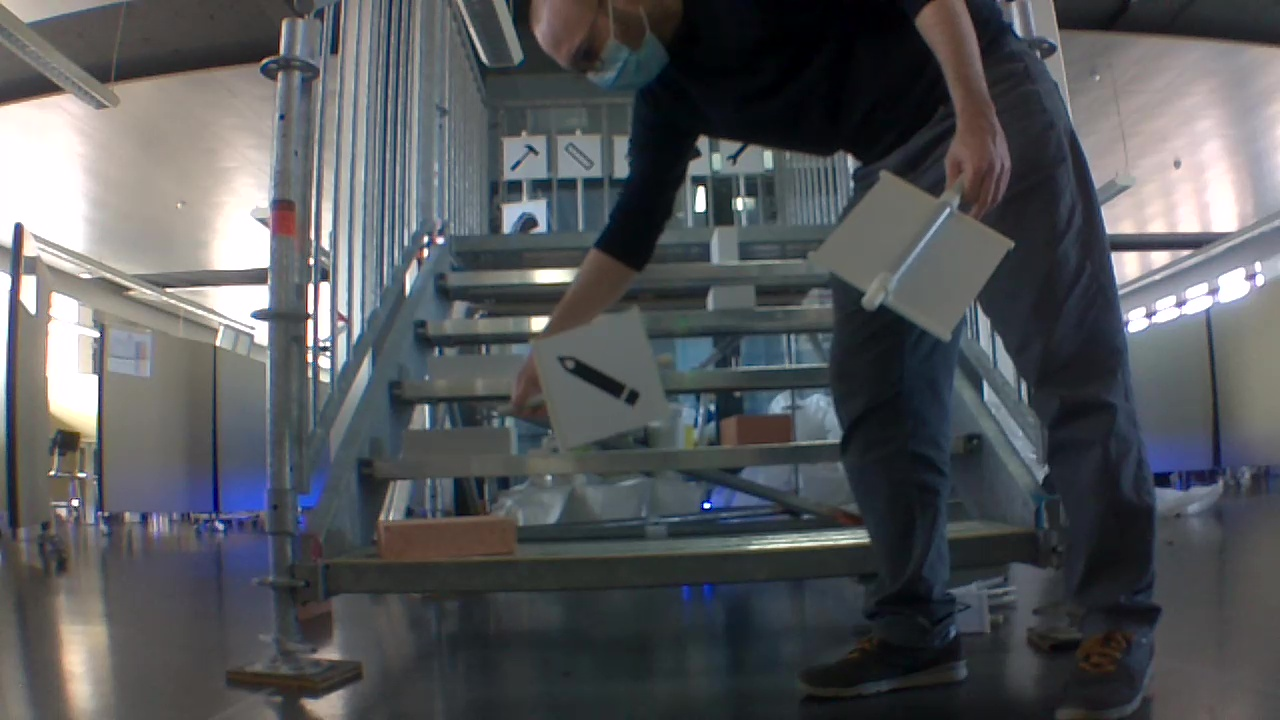brick: (376, 513, 519, 560), (395, 425, 524, 464), (724, 414, 792, 446), (706, 282, 757, 309), (709, 226, 742, 265)
edge: (329, 543, 873, 599)
hammer: (508, 142, 540, 174)
pencil: (555, 352, 640, 416)
ruler: (563, 138, 595, 172)
taco: (510, 212, 540, 237)
